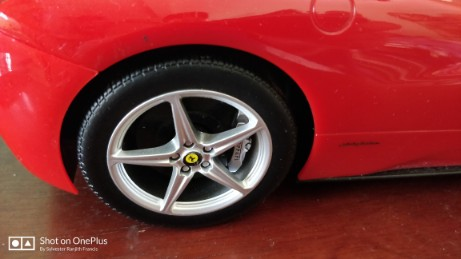aligned_wheel: (72, 46, 297, 228)
